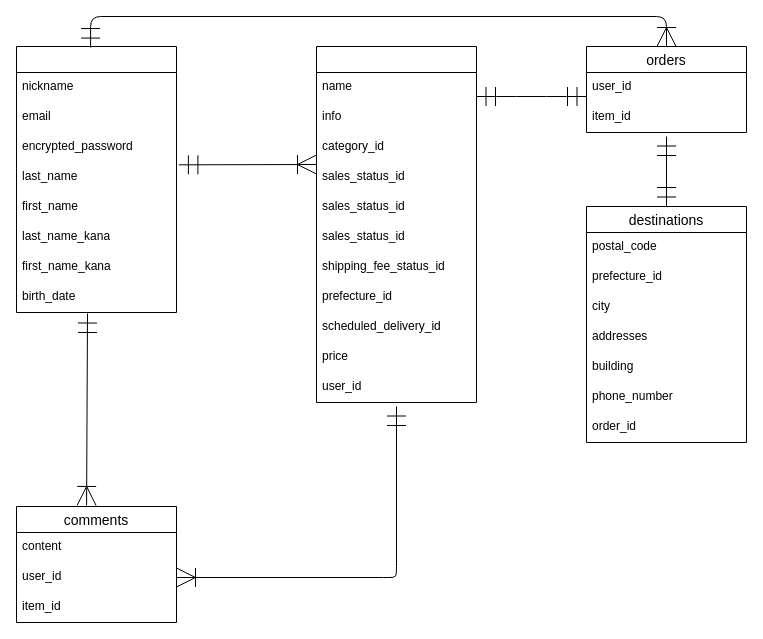
Image size: 763x639. Some labels were removed from this diagram. The box of each missing label's shape, as (x1, y1, x2, y2) in pixels:
items: (316, 46, 476, 402)
users: (16, 46, 176, 312)
